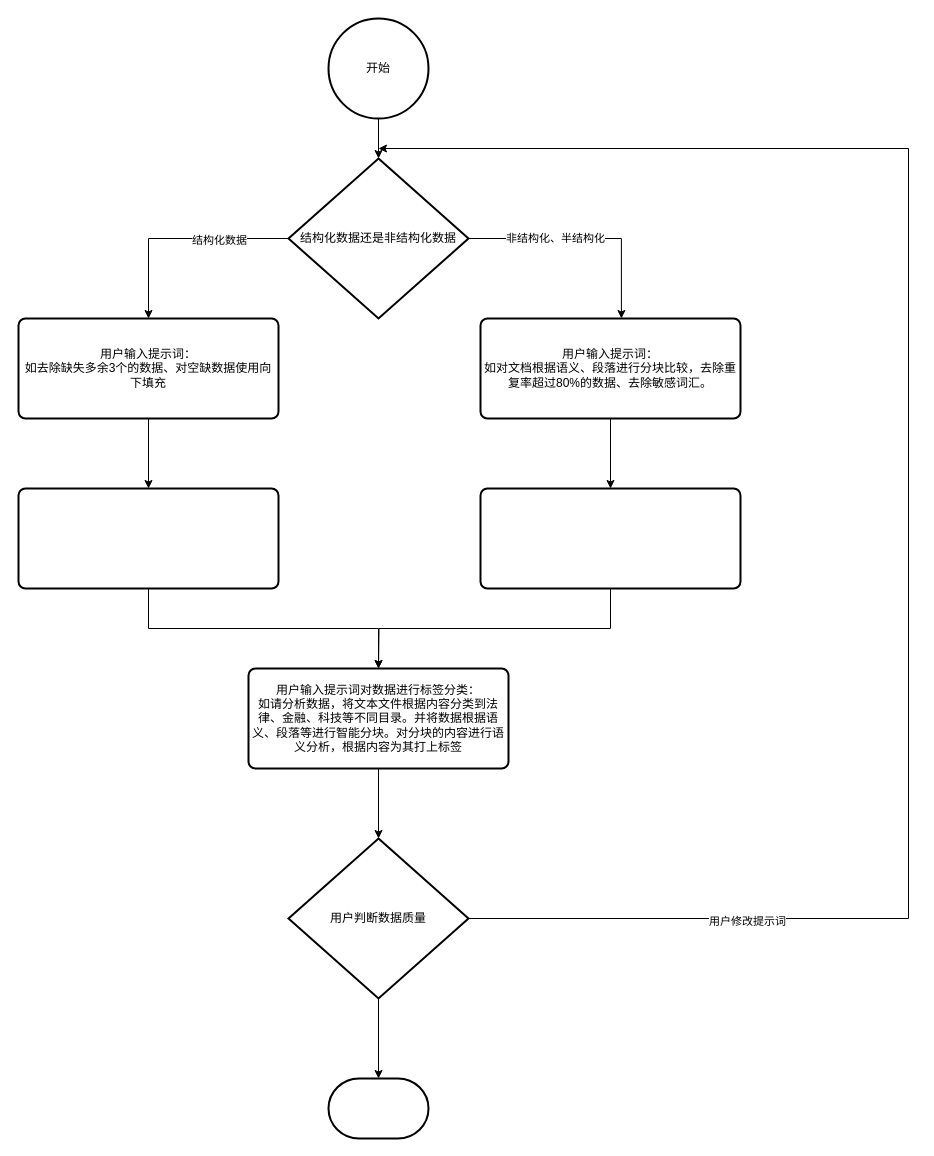
The diagram is 934 pixels wide and 1156 high, and some of its shapes have lost their labels. Each missing label, with the centre of its shape:
系统根据数据源的不同直接对数据进行清洗、或者生成sql语句、pandas规则等进行清洗: the point at 148,538
系统根据用户的输入，进行分块、清洗、去重等操作: the point at 610,538
结束: the point at 378,1108
